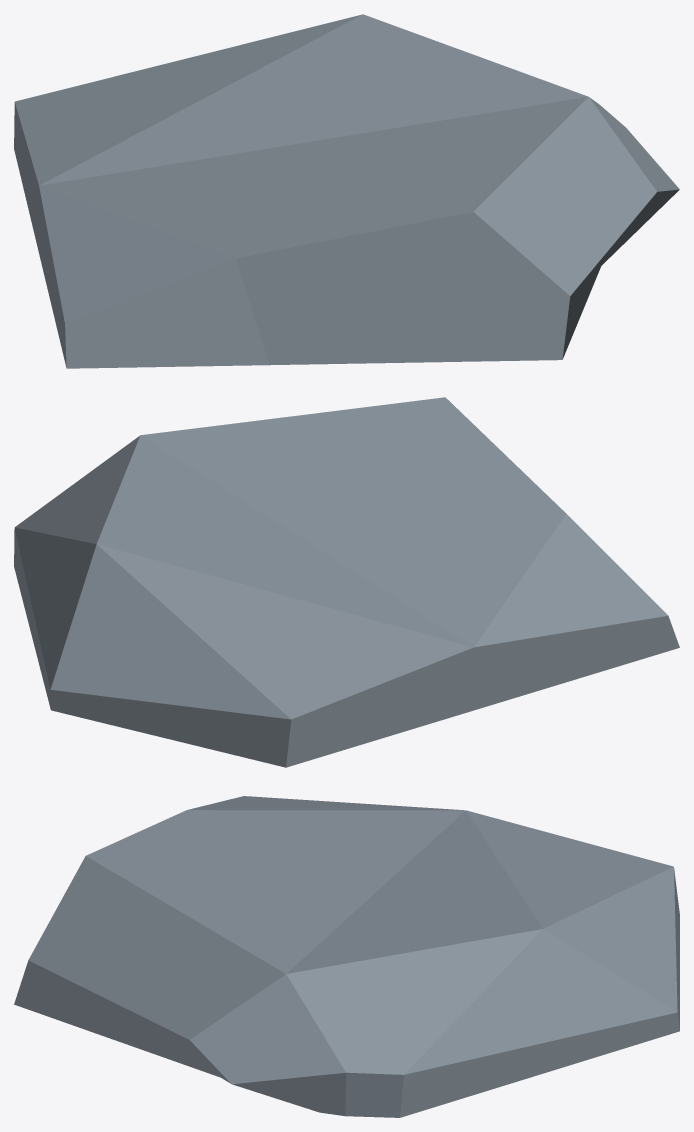
File: Ore_01_5.fbx
3 views of the same model, one above another, from view 1: azimuth 30°, elevation 25°; view 2: azimuth 150°, elevation 25°; view 3: azimuth 270°, elevation 25° (orthographic). The views are drawn at different scales.
Parts seen in each view (by area): view 1: Ore_01_5; view 2: Ore_01_5; view 3: Ore_01_5.
Boxes of the visible parts, left/top/right/bottom form: Ore_01_5: left=14, top=14, right=679, bottom=368; Ore_01_5: left=14, top=397, right=679, bottom=767; Ore_01_5: left=14, top=796, right=679, bottom=1117.
Size of the model in its own units: 1.21 by 0.2447 by 1.18.
